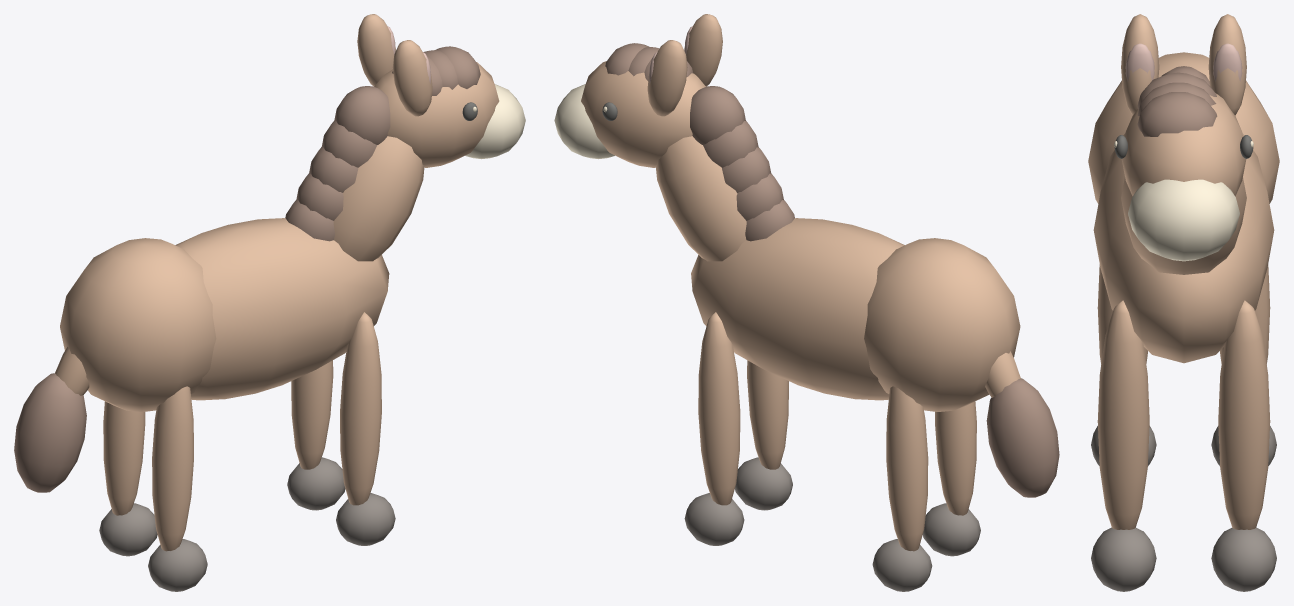
Rendered from horse-idle.glb.
The picture shows the model from 3 angles, left to right: view 1: azimuth 30°, elevation 25°; view 2: azimuth 150°, elevation 25°; view 3: azimuth 270°, elevation 25°; orthographic projection. The views are drawn at different scales.
Visible parts, largest first — view 1: Soft barrel, Round haunch, Curved neck, Leg.002, Tail tassel, Cheek, Leg, Leg.001, Leg.003, Mane scallop.005, Plush hoof, Plush hoof.002 (+12 smaller); view 2: Soft barrel, Round haunch, Curved neck, Cheek, Tail tassel, Leg.003, Leg.001, Leg, Leg.002, Mane scallop.005, Plush hoof.001, Upright ear.001 (+11 smaller); view 3: Soft barrel, Leg.002, Leg.003, Velvet muzzle, Cheek, Round haunch, Plush hoof.002, Plush hoof.003, Forelock tuft.002, Curved neck, Upright ear.001, Upright ear (+9 smaller).
Boxes of the visible parts, x1,y1,x2,y2 form: Soft barrel: (175, 218, 389, 400); Round haunch: (60, 238, 216, 411); Curved neck: (333, 136, 424, 261); Leg.002: (340, 312, 381, 505); Tail tassel: (14, 373, 86, 492); Cheek: (374, 62, 499, 167); Leg: (152, 386, 193, 551); Leg.001: (103, 401, 145, 515); Leg.003: (291, 360, 333, 469); Mane scallop.005: (334, 86, 390, 144); Plush hoof: (148, 539, 207, 591); Plush hoof.002: (336, 493, 395, 545); Soft barrel: (691, 218, 904, 400); Round haunch: (864, 238, 1020, 411); Curved neck: (656, 136, 746, 261); Cheek: (581, 61, 705, 167); Tail tassel: (986, 378, 1059, 497); Leg.003: (698, 312, 740, 505); Leg.001: (886, 386, 928, 551); Leg: (935, 401, 976, 515); Leg.002: (747, 360, 788, 469); Mane scallop.005: (690, 86, 745, 144); Plush hoof.001: (872, 539, 932, 591); Upright ear.001: (647, 40, 687, 116); Soft barrel: (1093, 133, 1274, 363); Leg.002: (1097, 300, 1149, 529); Leg.003: (1218, 300, 1270, 529); Velvet muzzle: (1128, 179, 1239, 261); Cheek: (1121, 93, 1246, 196); Round haunch: (1088, 52, 1279, 203); Plush hoof.002: (1091, 527, 1156, 591); Plush hoof.003: (1211, 527, 1276, 591); Forelock tuft.002: (1137, 92, 1217, 136); Curved neck: (1121, 177, 1246, 274); Upright ear.001: (1208, 14, 1246, 115); Upright ear: (1121, 14, 1159, 115).
Size of the model in its own units: 2.6 by 2.43 by 0.7.
